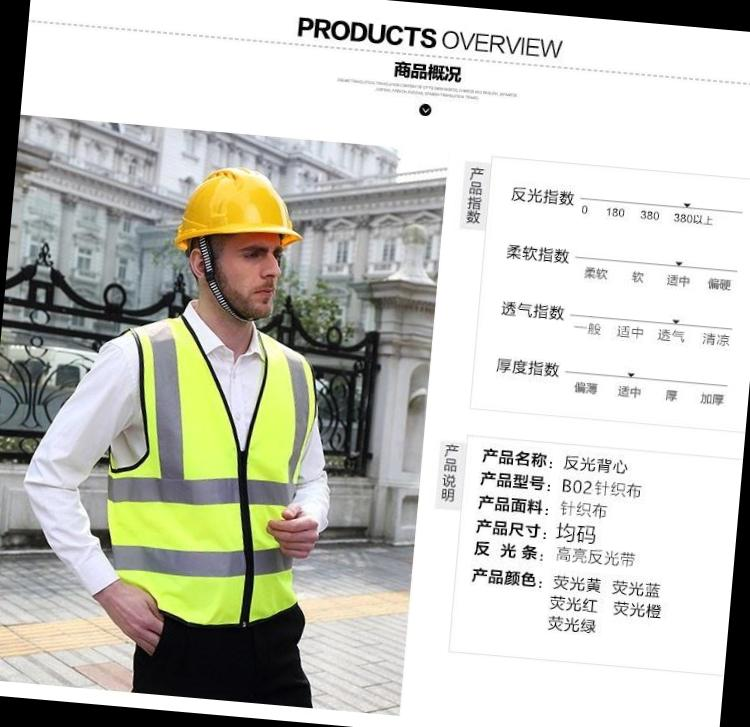Vest: (96, 288, 334, 615)
